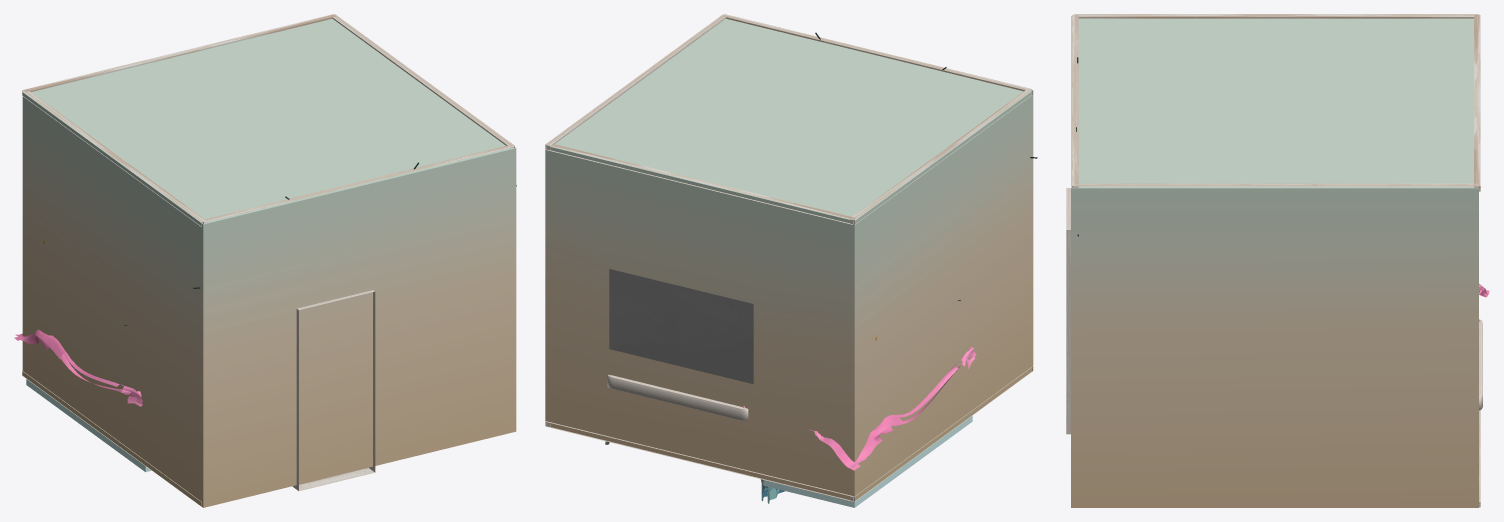
Rendered from Habitación.fbx.
3 views of the same model, side by side, from view 1: azimuth 30°, elevation 25°; view 2: azimuth 150°, elevation 25°; view 3: azimuth 270°, elevation 25° (orthographic). The views are drawn at different scales.
Visible parts, largest first — view 1: paredes, puerta, sábana, litera; view 2: paredes, ventana_paisaje, escritorio, sábana, litera, ventana; view 3: paredes, puerta.
Part boxes in pixels (x1,y1,x2,y2): paredes: (22, 14, 516, 507); puerta: (292, 290, 375, 491); sábana: (14, 329, 142, 406); litera: (26, 241, 151, 472); paredes: (545, 14, 1033, 501); ventana_paisaje: (610, 269, 753, 384); escritorio: (605, 374, 763, 482); sábana: (809, 347, 976, 470); litera: (761, 337, 972, 507); ventana: (609, 269, 684, 367); paredes: (1071, 14, 1480, 507); puerta: (1066, 188, 1070, 434).
Size of what is drawn, in the model's own units: 6.2 by 5.85 by 6.23.
